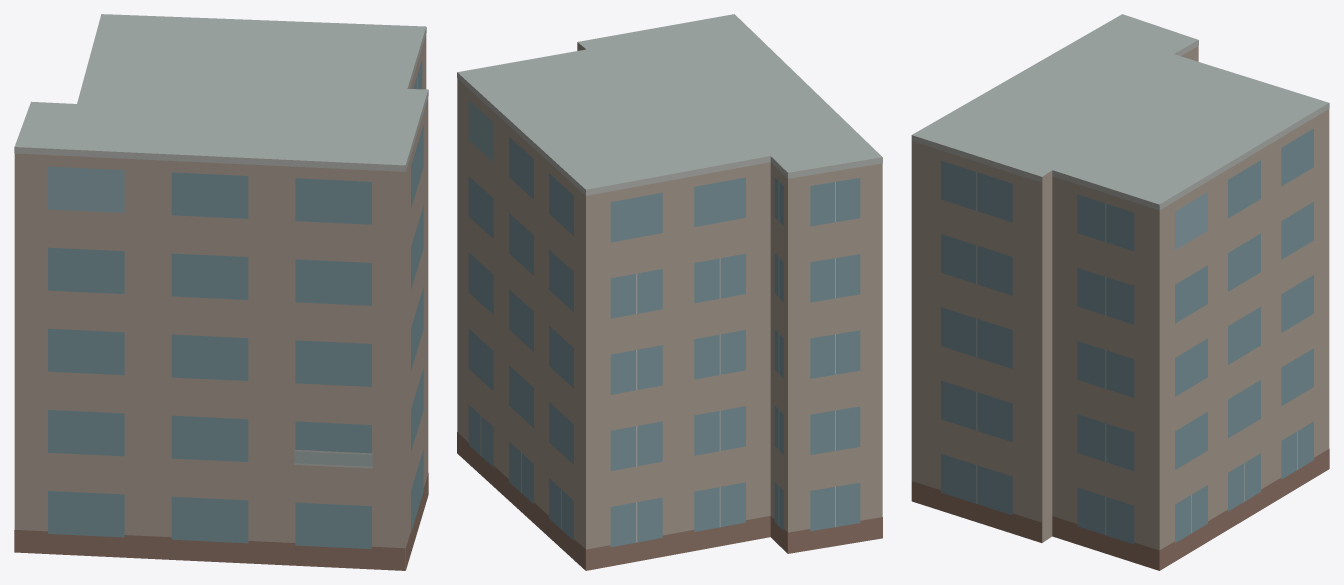
Rendered from survey-upis-33038653.glb.
3 renders of one model, left to right at view 1: azimuth 30°, elevation 25°; view 2: azimuth 150°, elevation 25°; view 3: azimuth 270°, elevation 25°, orthographic. The views are drawn at different scales.
Visible parts, largest first — view 1: survey-upis-33038653.tmp; view 2: survey-upis-33038653.tmp; view 3: survey-upis-33038653.tmp.
Part boxes in pixels (left/top/right/bottom): survey-upis-33038653.tmp: left=14, top=14, right=428, bottom=570; survey-upis-33038653.tmp: left=457, top=14, right=882, bottom=570; survey-upis-33038653.tmp: left=911, top=14, right=1329, bottom=570.
Size of the model in its own units: 17.09 by 15.3 by 15.83.
